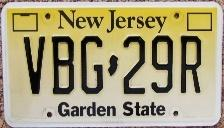2: (121, 34, 148, 95)
9: (150, 34, 175, 94)
B: (50, 34, 77, 96)
G: (79, 33, 105, 96)
R: (178, 33, 205, 95)
V: (22, 34, 48, 96)
